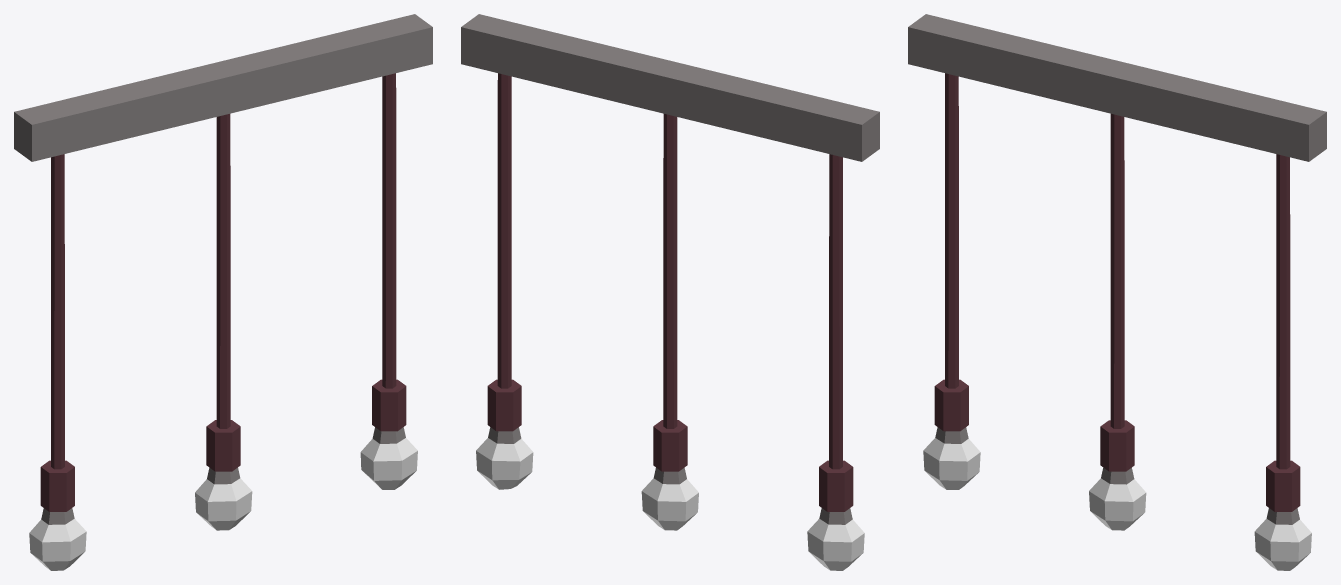
File: light-set-ceiling.fbx
The picture shows the model from 3 angles, left to right: view 1: azimuth 30°, elevation 25°; view 2: azimuth 150°, elevation 25°; view 3: azimuth 330°, elevation 25°; orthographic projection.
Visible parts, largest first — view 1: light-set-ceiling; view 2: light-set-ceiling; view 3: light-set-ceiling.
Part boxes in pixels (bbox=[...]): light-set-ceiling: bbox=[14, 14, 432, 570]; light-set-ceiling: bbox=[461, 14, 879, 570]; light-set-ceiling: bbox=[908, 14, 1326, 570].
Bounding box in the file's own units: 0.9052 × 0.9853 × 0.1005.
